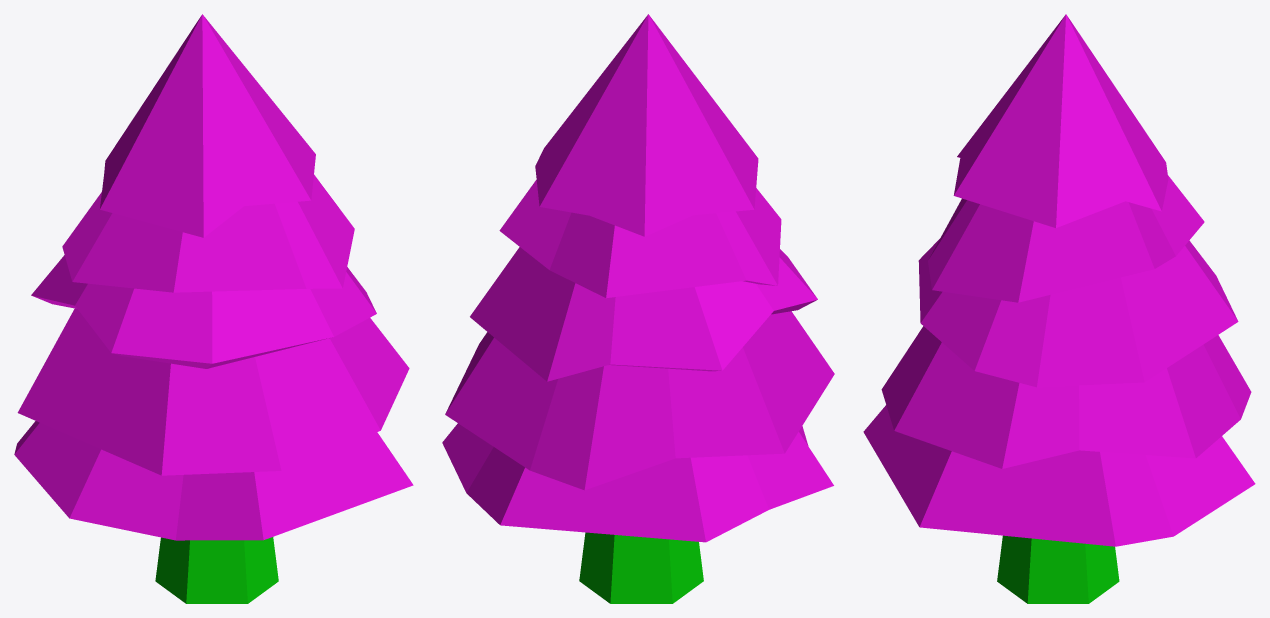
The model's file is Pine Tree 3.fbx.
3 views of the same model, side by side, from view 1: azimuth 30°, elevation 25°; view 2: azimuth 150°, elevation 25°; view 3: azimuth 270°, elevation 25° (orthographic).
Visible parts, largest first — view 1: Pine Tree 3; view 2: Pine Tree 3; view 3: Pine Tree 3.
Boxes of the visible parts, x1=… form: Pine Tree 3: x1=14, y1=14, x2=413, y2=603; Pine Tree 3: x1=442, y1=14, x2=834, y2=603; Pine Tree 3: x1=863, y1=14, x2=1255, y2=603.
Size of the model in its own units: 457 by 730 by 461.
